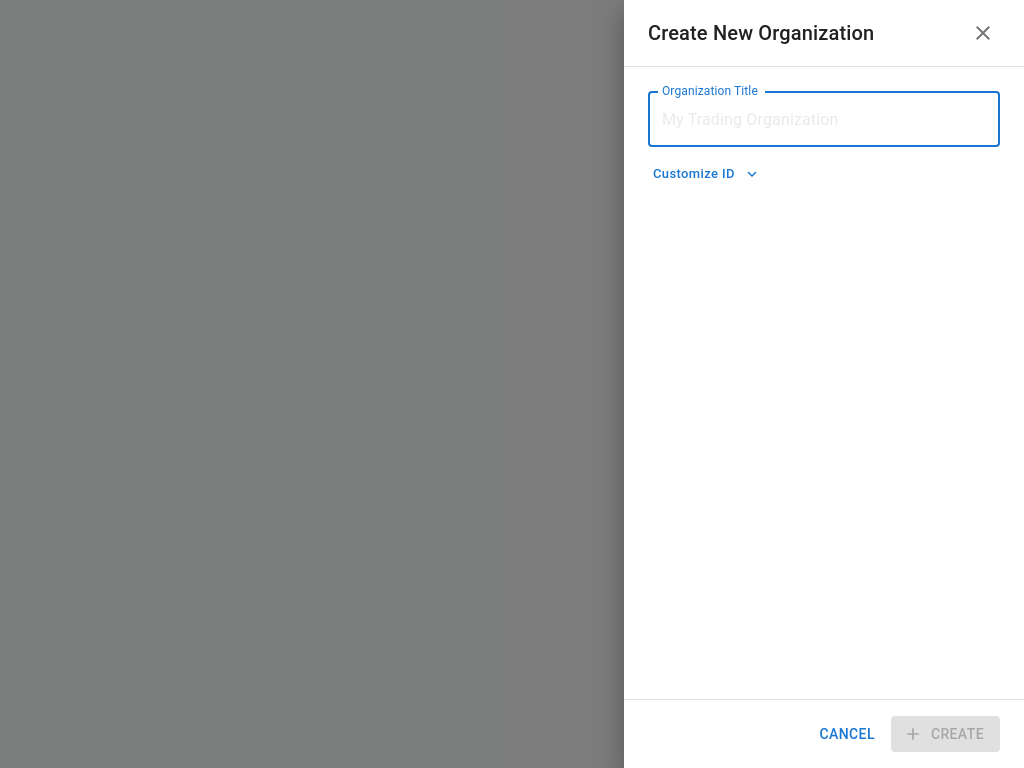
it: CreateOrganizationDrawer › validation › shows error for ID that is too short
The image size is (1024, 768).
Enter a title first
Type "My Organization" into the field labelled "Organization Title" at (824, 119), box [648,91,1000,147]
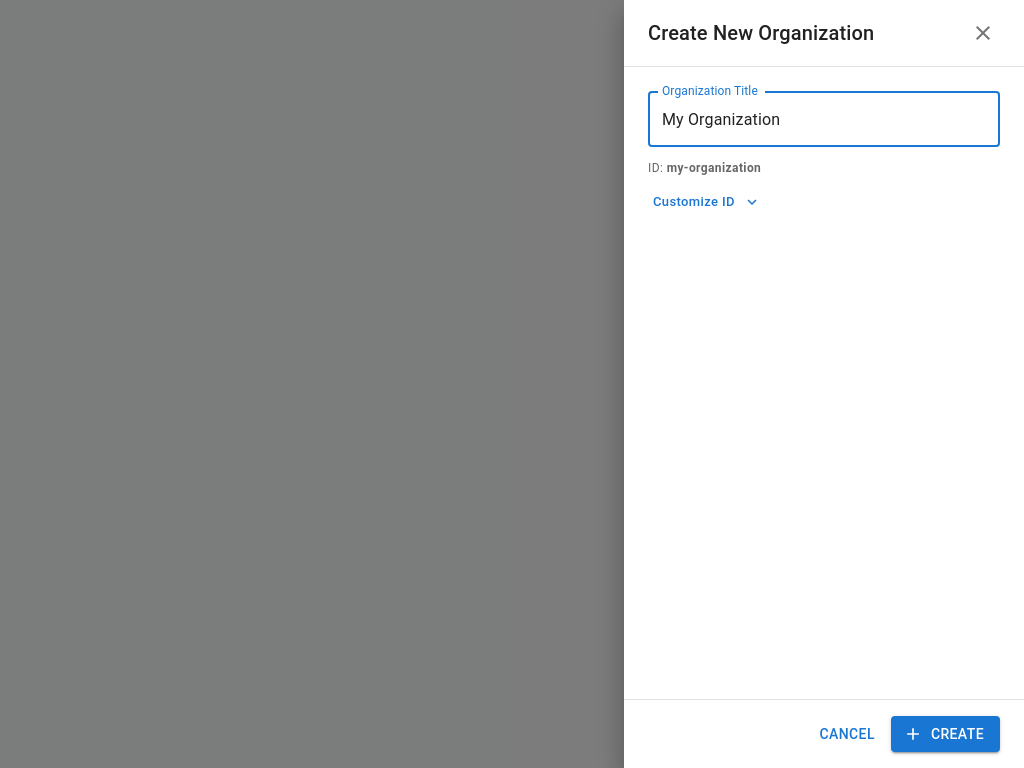
Open advanced section
Click the button "Customize ID" at (706, 202), box [648,187,764,218]
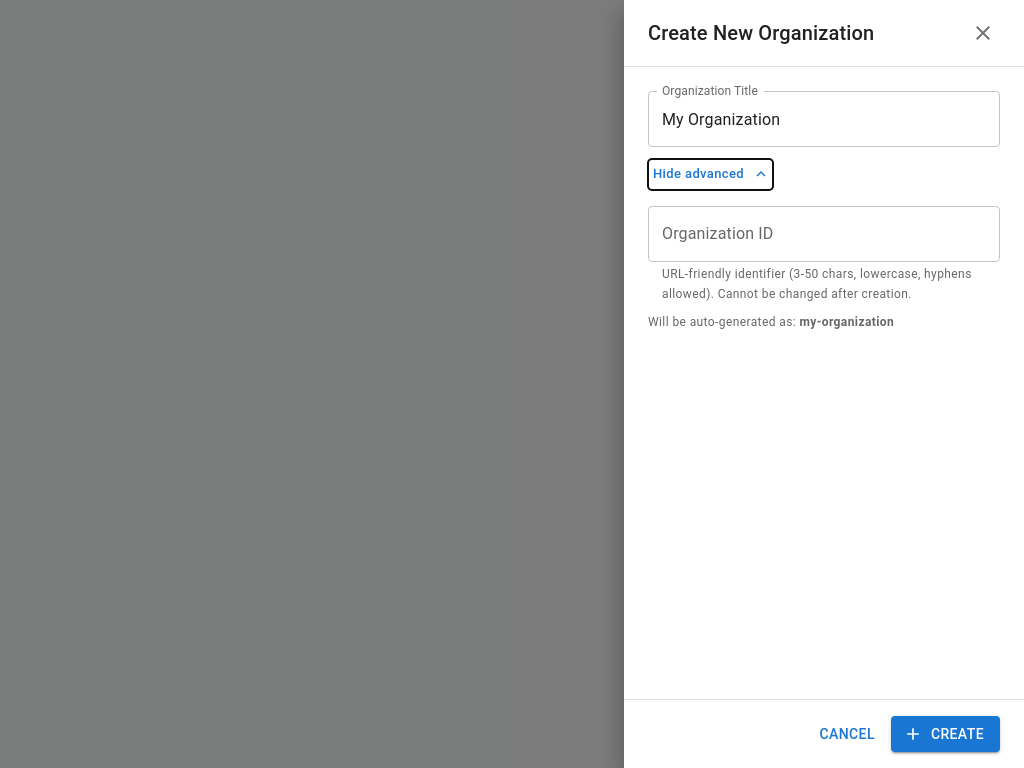
Enter short ID
Type "ab" into the field labelled "Organization ID" at (824, 234), box [648,206,1000,262]
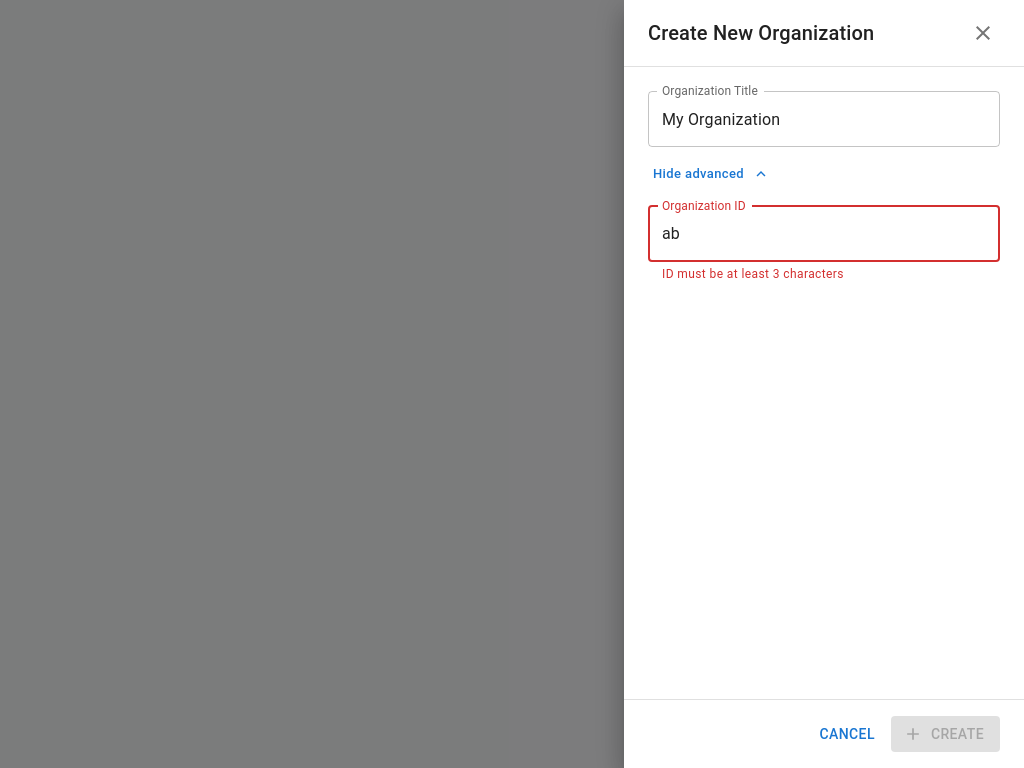
expect the text "ID must be at least 3 characters" is shown: met, box [662,267,844,281]
